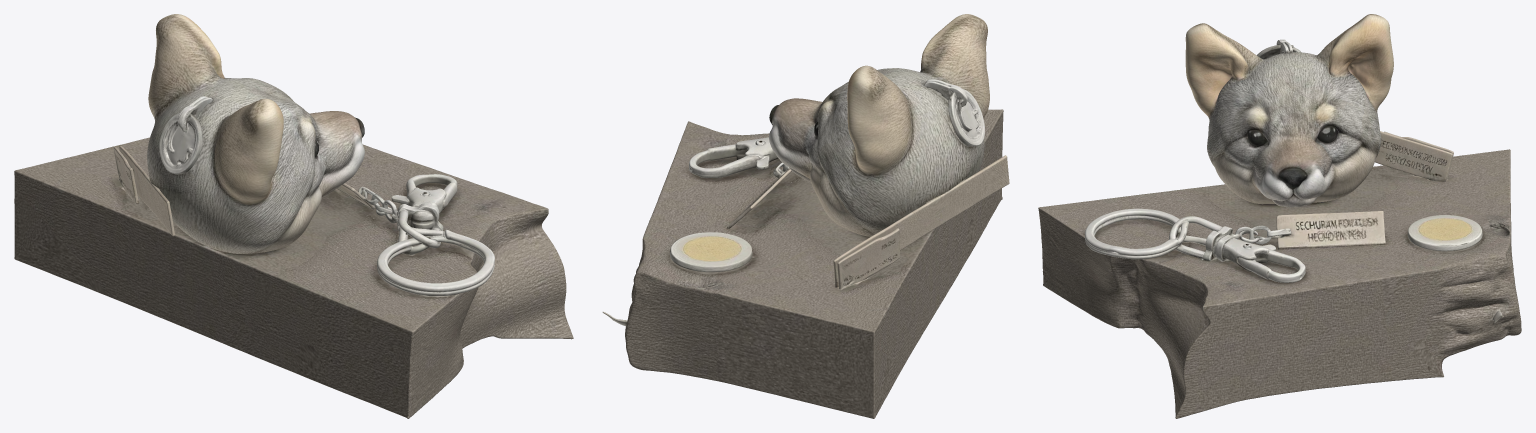
The model's file is llavero_de_cara_de_zorro_costero.glb.
3 views of the same model, side by side, from view 1: azimuth 30°, elevation 25°; view 2: azimuth 150°, elevation 25°; view 3: azimuth 270°, elevation 25° (orthographic). The views are drawn at different scales.
Parts seen in each view (by area): view 1: tripo_node_63cc3d24-1d60-4de7-8a0a-52f4bbdf83d2; view 2: tripo_node_63cc3d24-1d60-4de7-8a0a-52f4bbdf83d2; view 3: tripo_node_63cc3d24-1d60-4de7-8a0a-52f4bbdf83d2.
Boxes of the visible parts, x1,y1,x2,y2 form: tripo_node_63cc3d24-1d60-4de7-8a0a-52f4bbdf83d2: [14, 14, 573, 418]; tripo_node_63cc3d24-1d60-4de7-8a0a-52f4bbdf83d2: [602, 14, 1009, 418]; tripo_node_63cc3d24-1d60-4de7-8a0a-52f4bbdf83d2: [1038, 14, 1521, 418].
Bounding box in the file's own units: 25935 × 20914 × 32767.
1 material, 1 textured.
